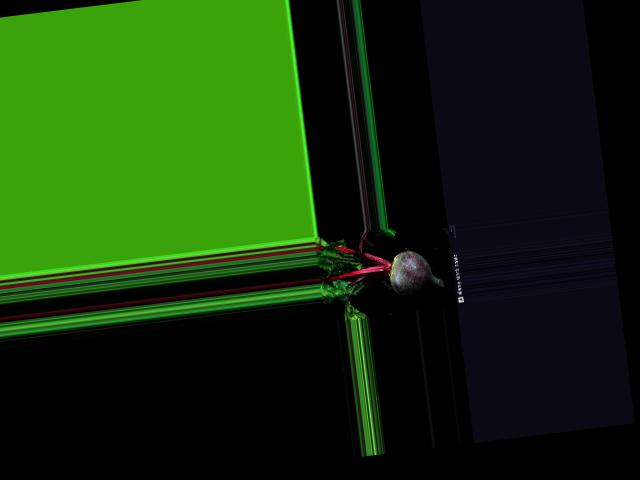beet: (314, 220, 447, 322)
